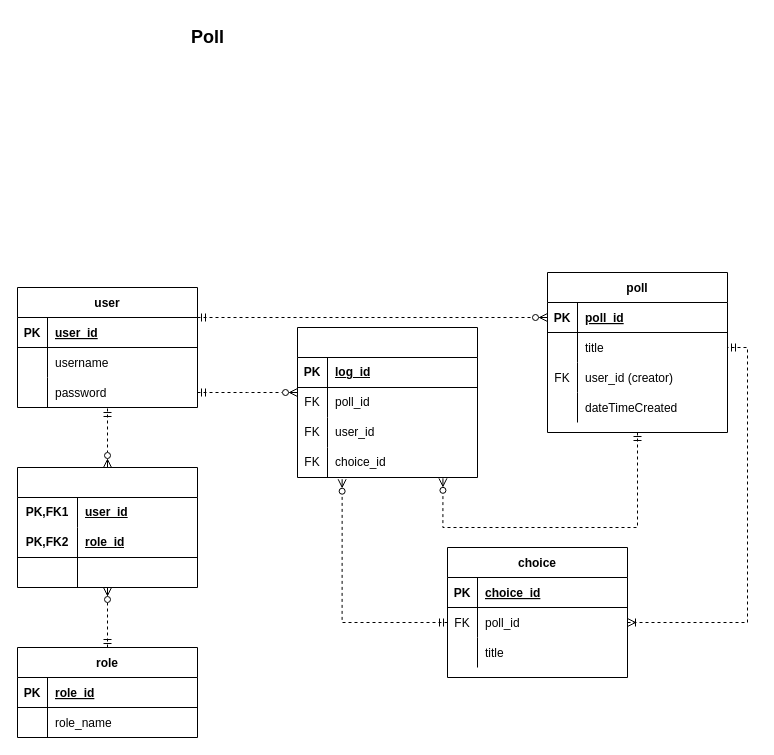
The diagram is 774 pixels wide and 755 high, and some of its shapes have lost their labels. Each missing label, with the box of its shape:
poll_log: (296, 326, 478, 478)
user_role: (16, 466, 198, 588)
